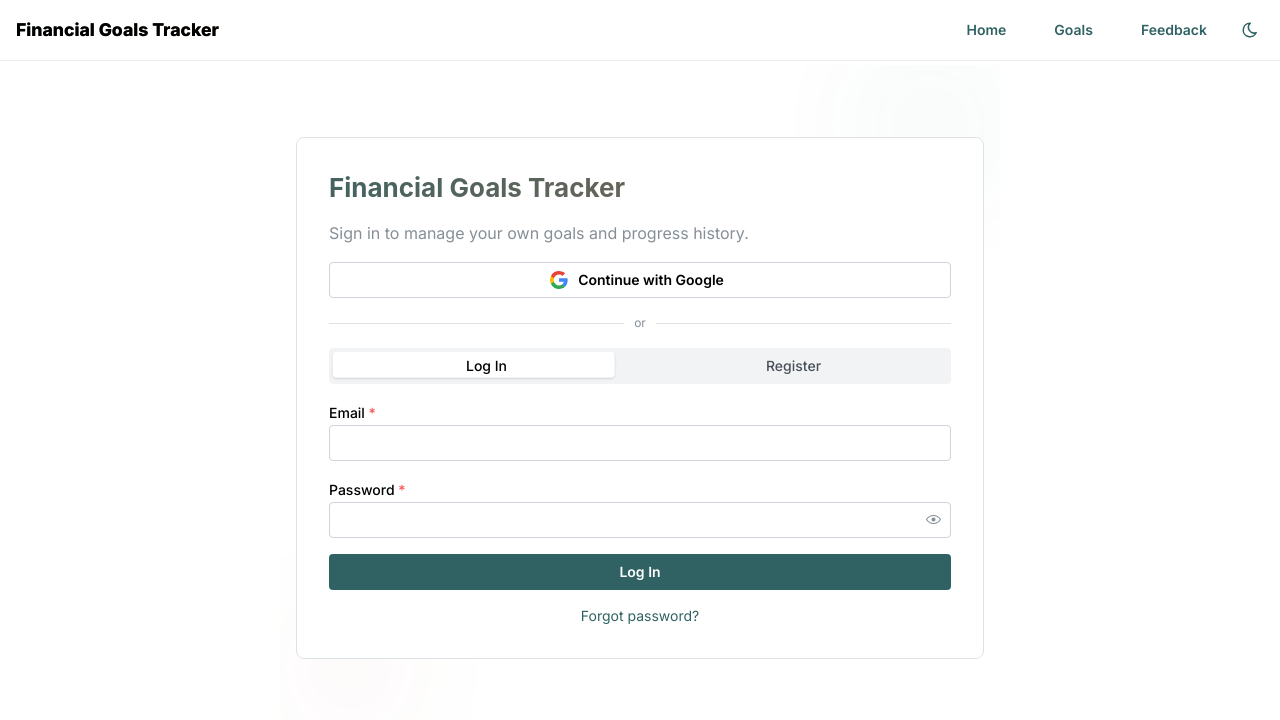
it: Auth Page › toggles between login and register modes
Step 1. Click the radio button "Register" → [794, 367], box x1=766 y1=358 x2=821 y2=375
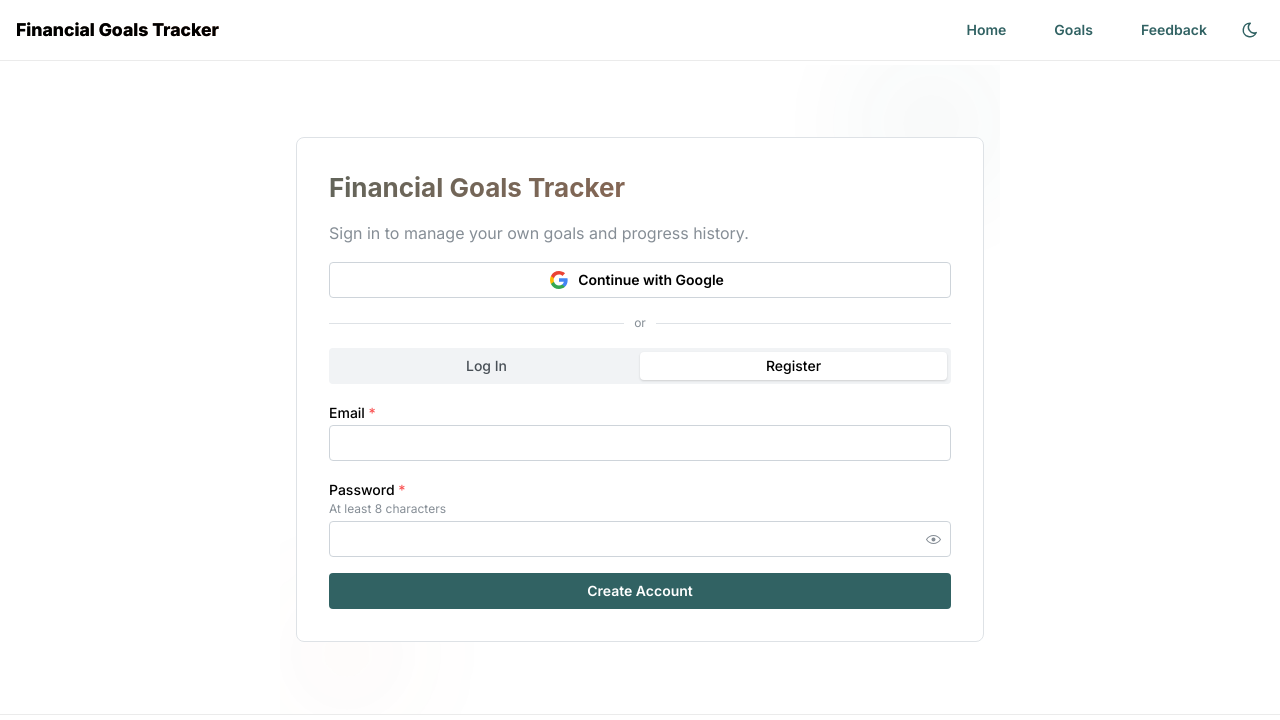
Result: the submit button reads "Create Account" at x1=329 y1=573 x2=951 y2=609
Step 2. Click the radio button "Log In" → [487, 367], box x1=466 y1=358 x2=507 y2=375
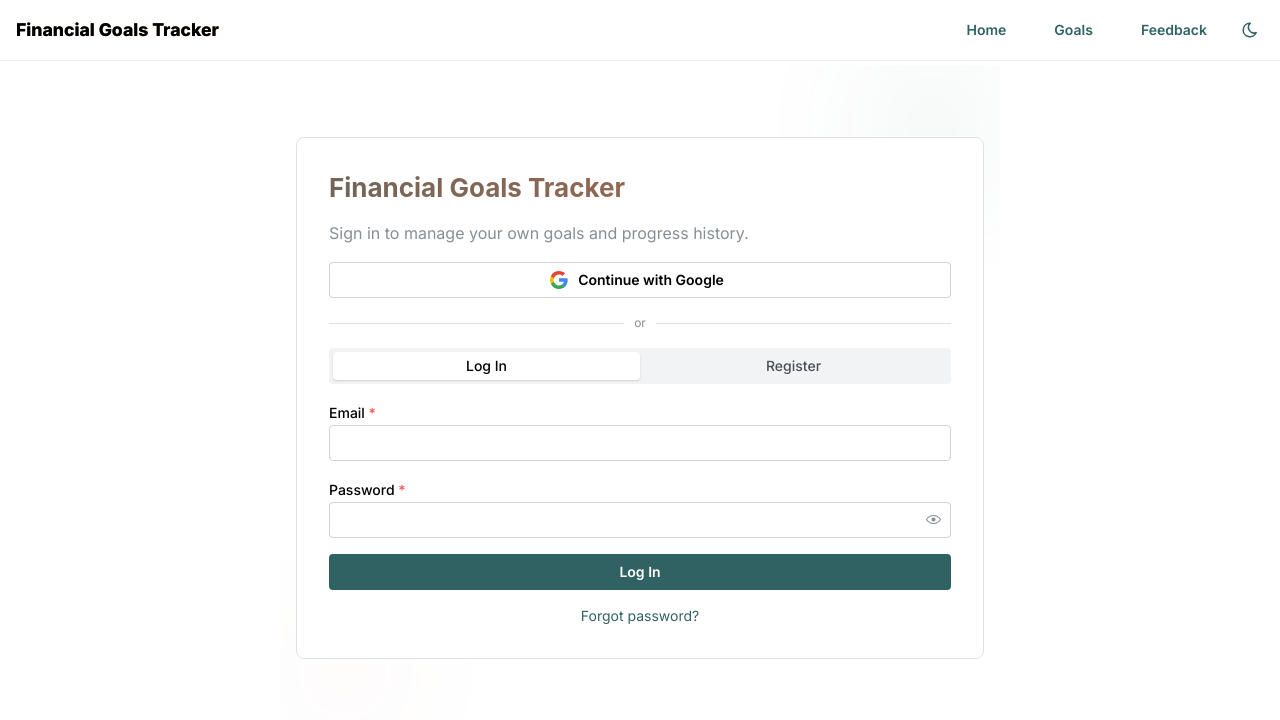
Result: the submit button reads "Log In" at x1=329 y1=554 x2=951 y2=590
